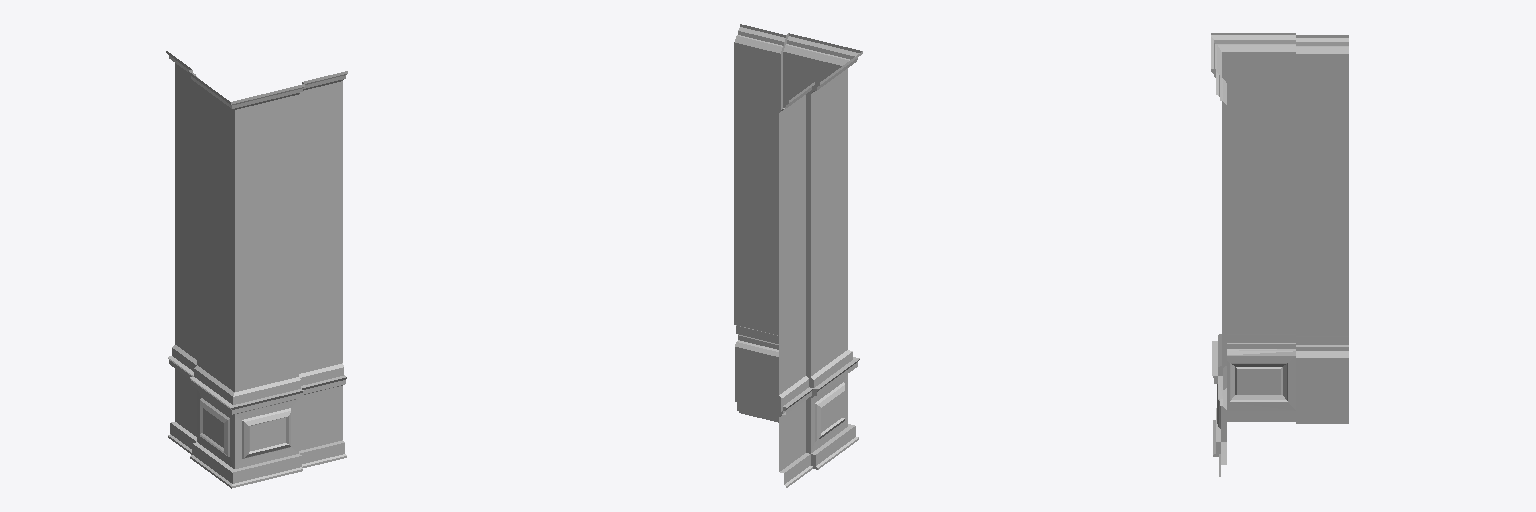
File: Wall_Corner_01.obj
The picture shows the model from 3 angles: view 1: azimuth 30°, elevation 25°; view 2: azimuth 150°, elevation 25°; view 3: azimuth 270°, elevation 25°; orthographic projection.
Parts seen in each view (by area): view 1: Walls_Wall_Corner_02; view 2: Walls_Wall_Corner_02; view 3: Walls_Wall_Corner_02.
Boxes of the visible parts, box(x1,y1,x2,y2) form: Walls_Wall_Corner_02: box(166, 51, 347, 488); Walls_Wall_Corner_02: box(734, 24, 862, 487); Walls_Wall_Corner_02: box(1211, 33, 1348, 476).
Size of the model in its own units: 130 by 401 by 130.